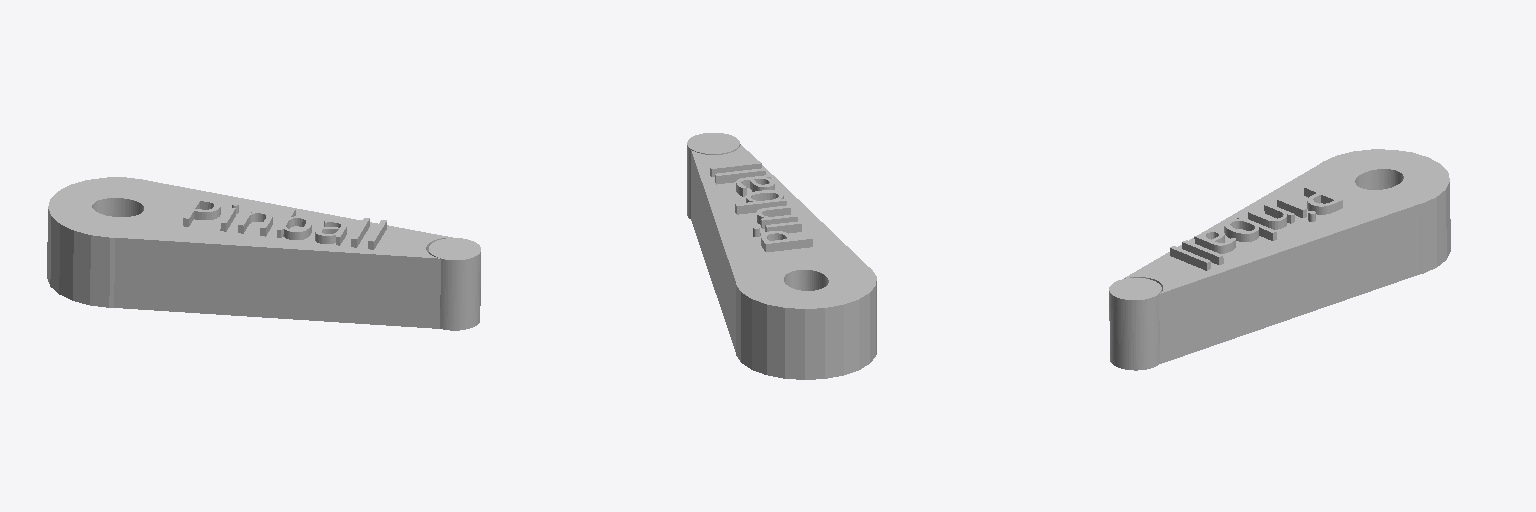
Rendered from LeftPaddle.obj.
The picture shows the model from 3 angles: view 1: azimuth 30°, elevation 25°; view 2: azimuth 150°, elevation 25°; view 3: azimuth 270°, elevation 25°; orthographic projection.
Parts seen in each view (by area): view 1: LeftPaddle; view 2: LeftPaddle; view 3: LeftPaddle.
Boxes of the visible parts, <box> form: LeftPaddle: <box>47,177,480,330</box>; LeftPaddle: <box>687,133,876,379</box>; LeftPaddle: <box>1109,149,1450,370</box>.
Size of the model in its own units: 26.63 by 7.14 by 26.35.